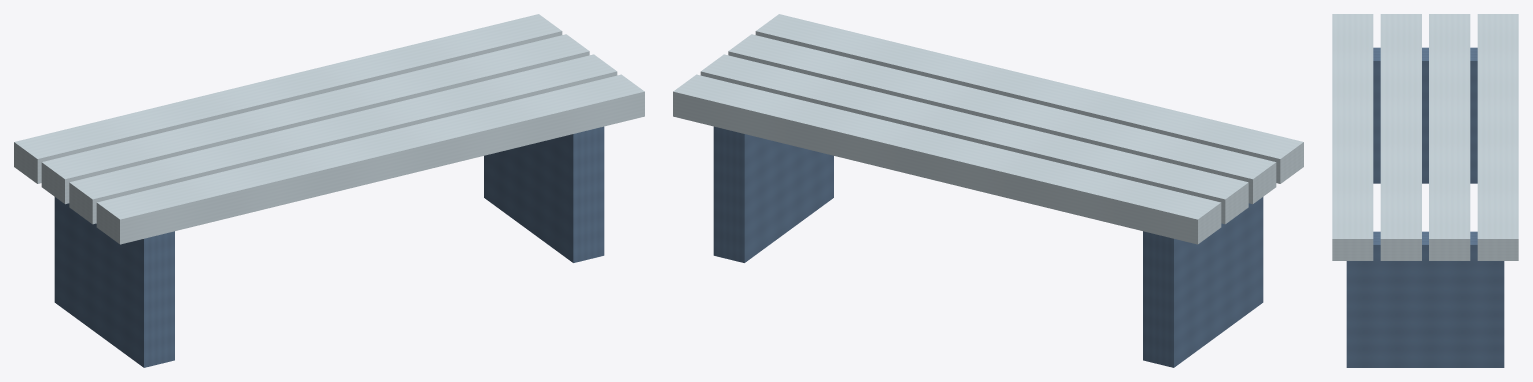
Rendered from atlas100-polar-util03.glb.
3 views of the same model, side by side, from view 1: azimuth 30°, elevation 25°; view 2: azimuth 150°, elevation 25°; view 3: azimuth 270°, elevation 25° (orthographic). The views are drawn at different scales.
Parts seen in each view (by area): view 1: atlas100-polar-util03:part-005, atlas100-polar-util03:part-003, atlas100-polar-util03:part-002, atlas100-polar-util03:part-004, atlas100-polar-util03:part-000, atlas100-polar-util03:part-001; view 2: atlas100-polar-util03:part-002, atlas100-polar-util03:part-004, atlas100-polar-util03:part-003, atlas100-polar-util03:part-005, atlas100-polar-util03:part-000, atlas100-polar-util03:part-001; view 3: atlas100-polar-util03:part-001, atlas100-polar-util03:part-002, atlas100-polar-util03:part-003, atlas100-polar-util03:part-004, atlas100-polar-util03:part-005, atlas100-polar-util03:part-000.
Part boxes in pixels (x1,y1,x2,y2): atlas100-polar-util03:part-005: (96,74,644,244); atlas100-polar-util03:part-003: (41,34,589,204); atlas100-polar-util03:part-002: (14,14,562,183); atlas100-polar-util03:part-004: (69,54,617,224); atlas100-polar-util03:part-000: (54,197,174,367); atlas100-polar-util03:part-001: (484,126,604,262); atlas100-polar-util03:part-002: (673,74,1221,244); atlas100-polar-util03:part-004: (728,34,1276,204); atlas100-polar-util03:part-003: (700,54,1248,224); atlas100-polar-util03:part-005: (755,14,1303,183); atlas100-polar-util03:part-000: (1143,197,1263,367); atlas100-polar-util03:part-001: (713,126,833,262); atlas100-polar-util03:part-001: (1346,231,1504,367); atlas100-polar-util03:part-002: (1477,14,1518,260); atlas100-polar-util03:part-003: (1429,14,1470,260); atlas100-polar-util03:part-004: (1380,14,1421,260); atlas100-polar-util03:part-005: (1332,14,1373,260); atlas100-polar-util03:part-000: (1373,47,1477,183).
Size of the model in its own units: 2.25 by 0.665 by 0.7877.
2 materials, 2 textured.
